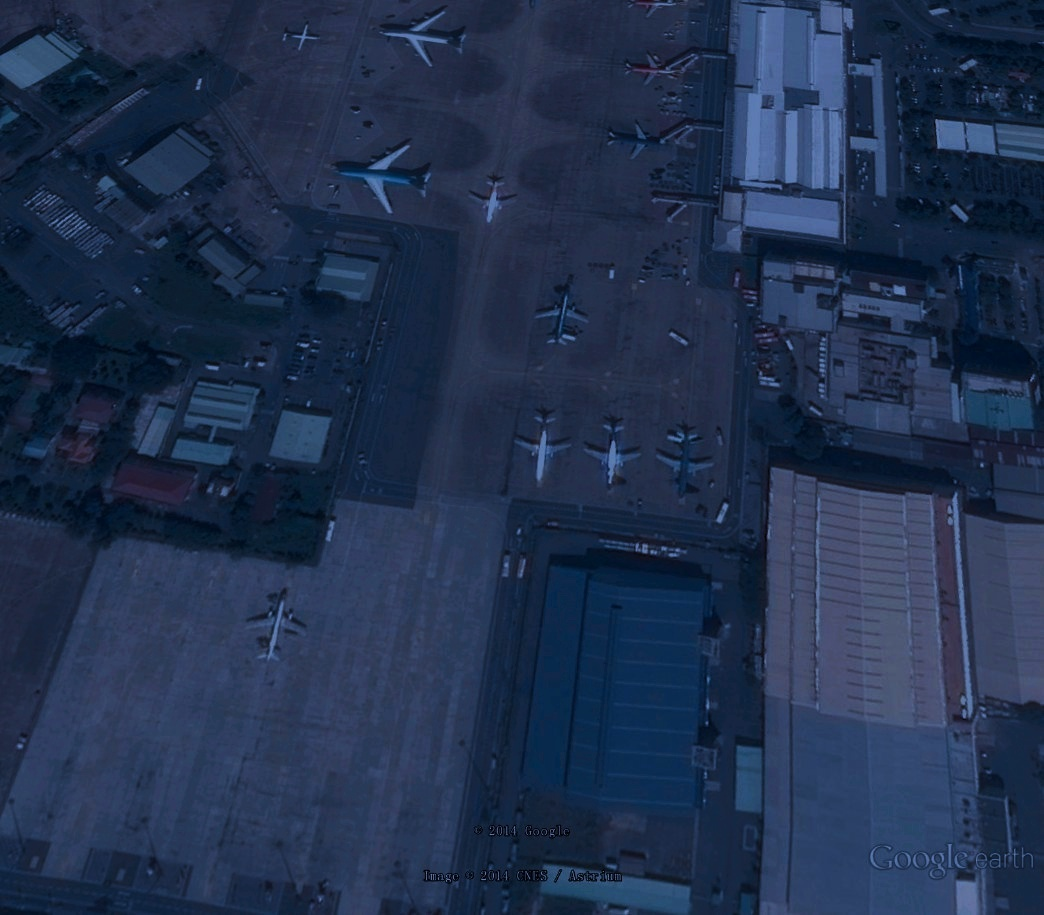aircraft: (328, 138, 436, 217), (375, 6, 468, 70), (243, 586, 312, 667), (652, 426, 720, 507), (582, 415, 646, 498), (510, 412, 577, 489), (528, 286, 589, 349), (604, 115, 670, 165), (465, 174, 522, 229), (619, 48, 684, 90), (280, 21, 322, 54)
